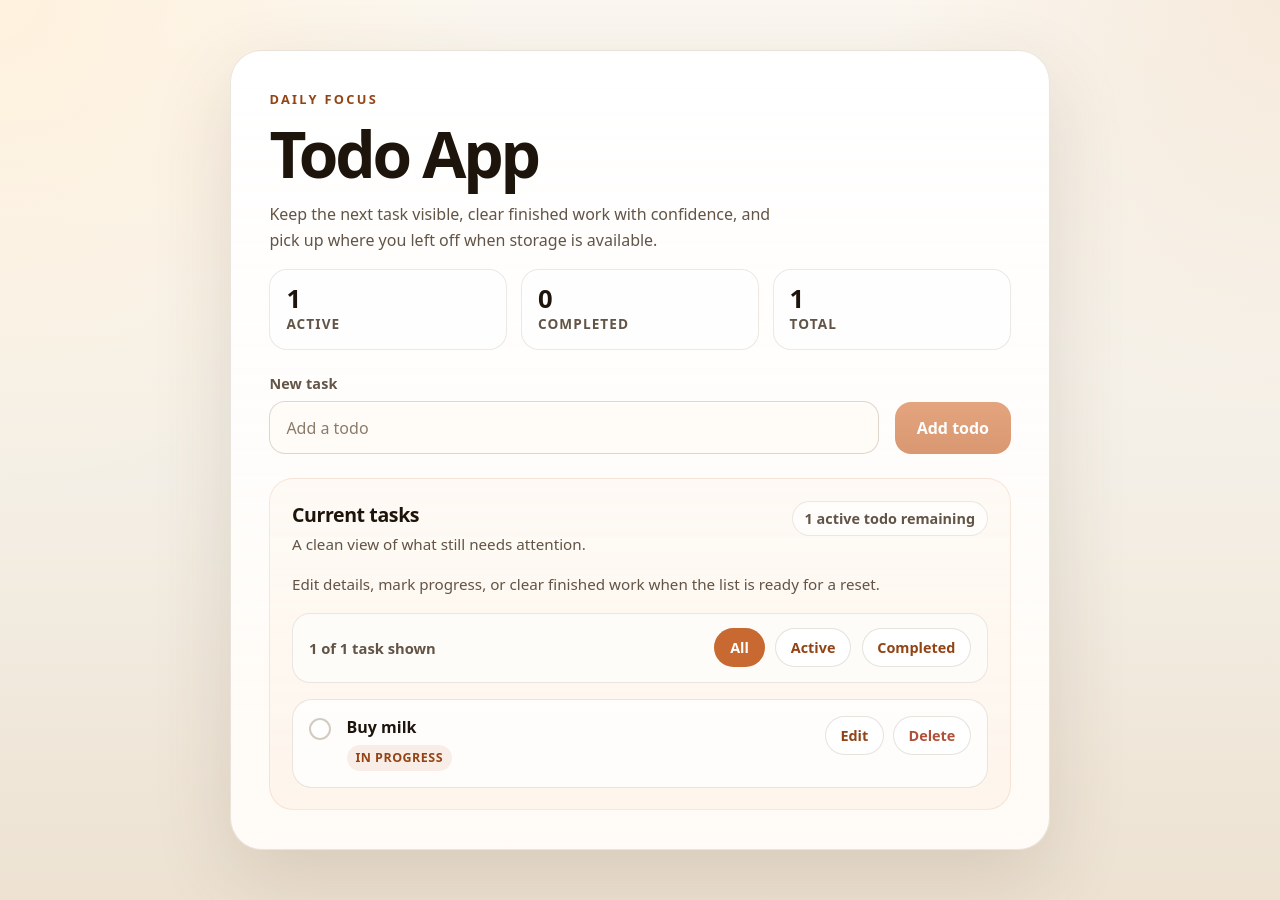
HomePage › exits edit mode if the selected filter would hide the todo being edited
The width and height of the screenshot is (1280, 900).
Click the button named "Edit Buy milk" at (854, 736), box [825,716,884,755]
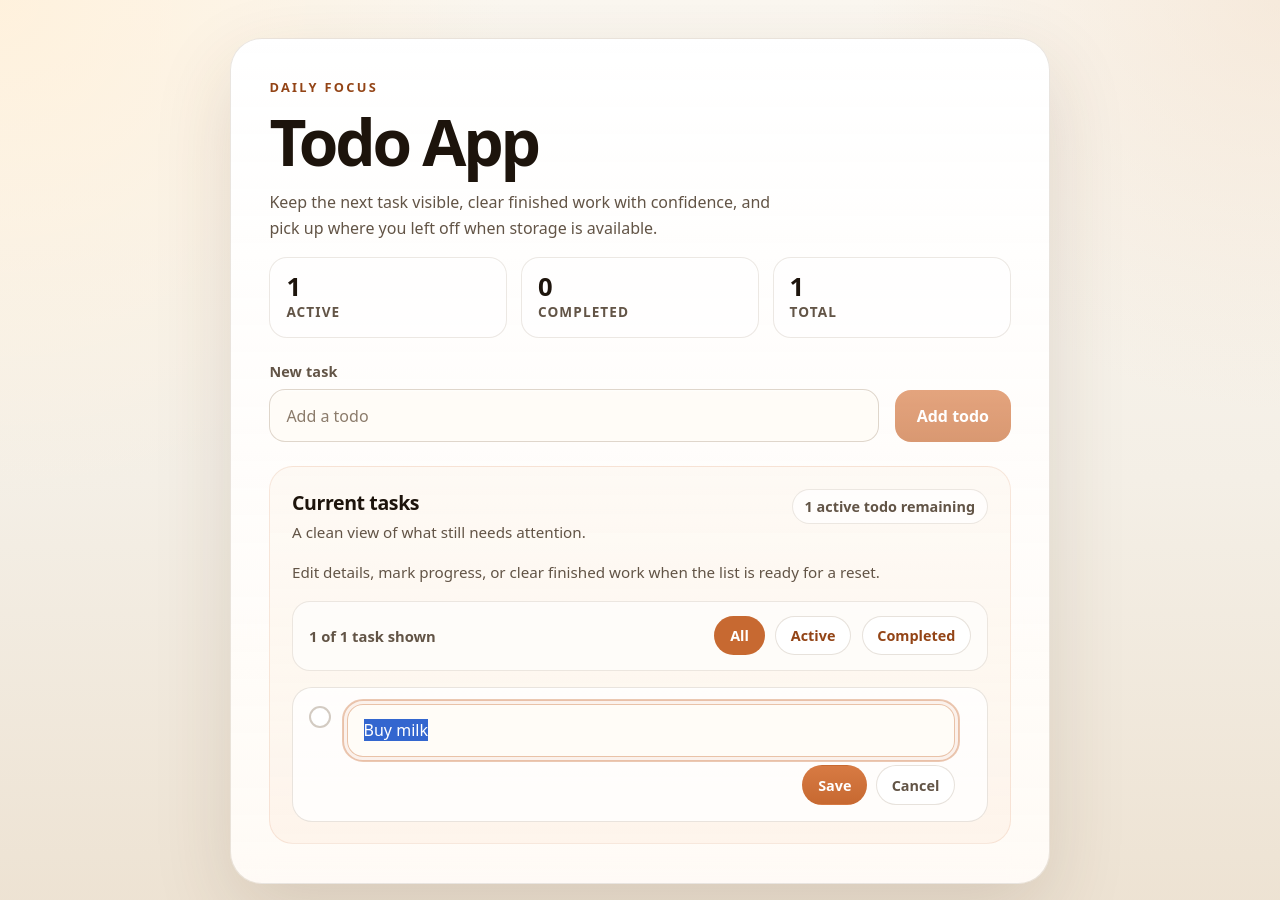
Expected: the field named "Edit Buy milk" is shown, [347,704,955,756]
Click the button "Completed" at (916, 636), box [862,616,971,655]
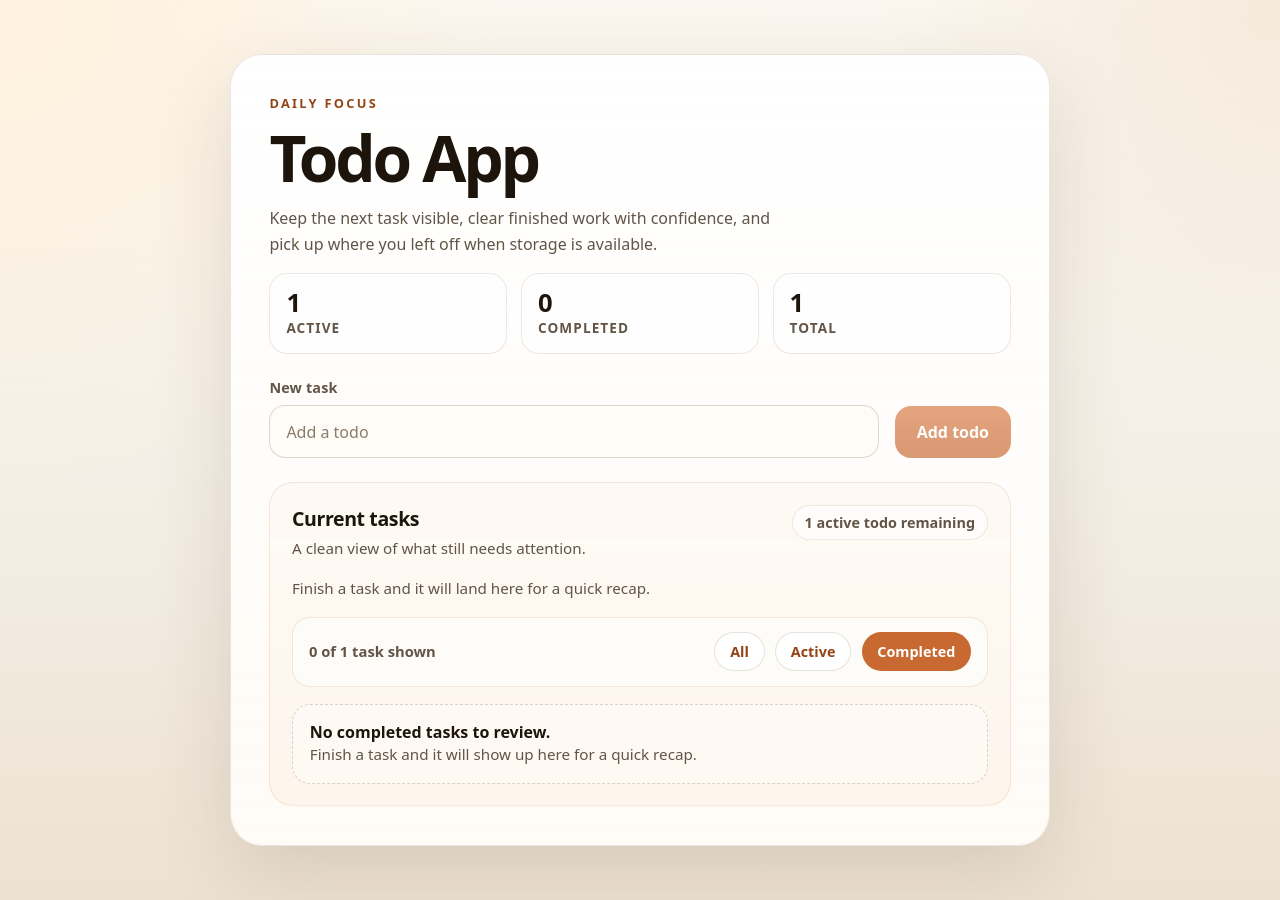
Expected: the field labelled "Edit Buy milk" is not shown
Expected: the text "No completed tasks to review." is shown, [310,721,550,743]
